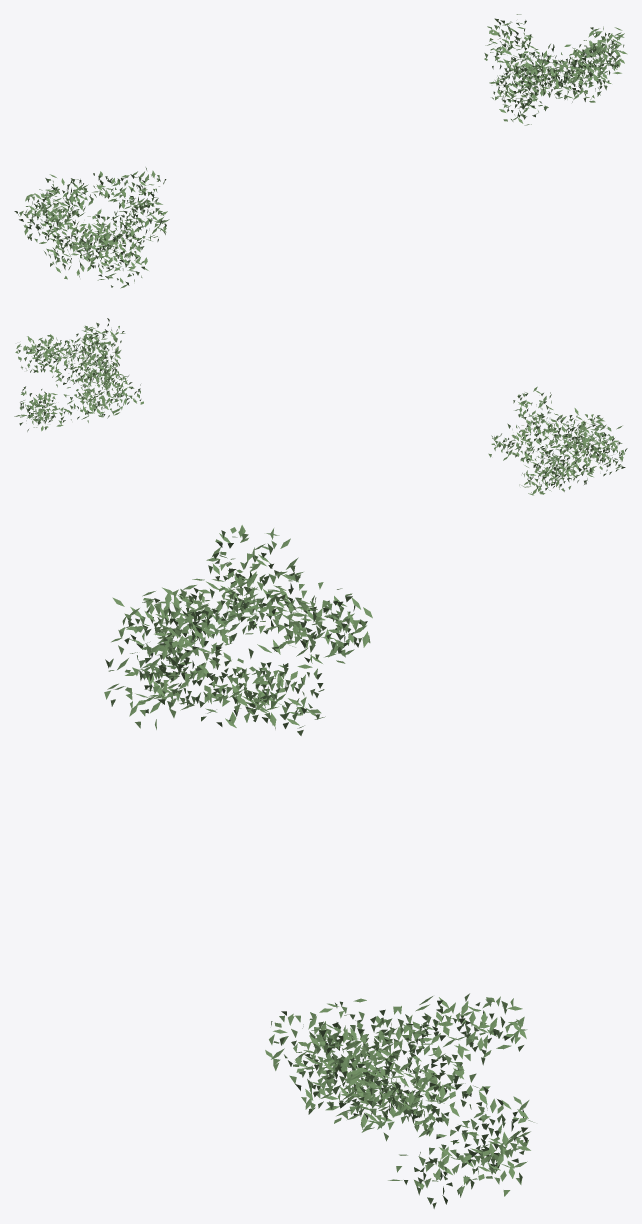
Rendered from xiyuan-vegetation-21-medium.glb.
3 renders of one model, top to bottom at view 1: azimuth 30°, elevation 25°; view 2: azimuth 150°, elevation 25°; view 3: azimuth 270°, elevation 25°, orthographic. The views are drawn at different scales.
Parts seen in each view (by area): view 1: vegetation broadleaf leaves.003; view 2: vegetation broadleaf leaves.003; view 3: vegetation broadleaf leaves.003.
Part boxes in pixels (bbox=[...]): vegetation broadleaf leaves.003: bbox=[14, 14, 627, 288]; vegetation broadleaf leaves.003: bbox=[14, 318, 627, 495]; vegetation broadleaf leaves.003: bbox=[104, 525, 534, 1208].
Size of the model in its own units: 36.48 by 5.49 by 12.35.
